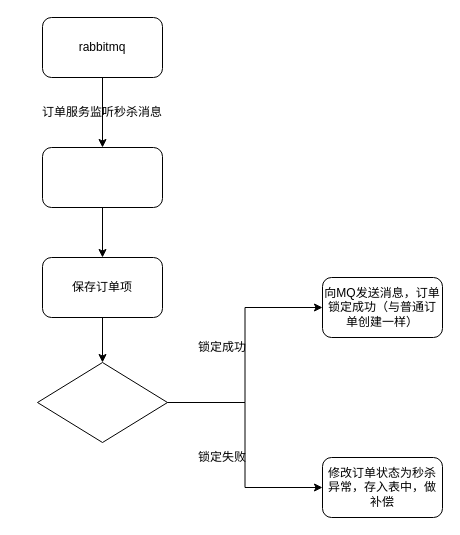
This 460x535 diagram has some shape labels left out. The shapes that lost their labels are listed below. From the top down, each one's centre as x and y in pixels, then its label:
At pixel 102 177: "创建订单".
At pixel 102 402: "锁库存".
